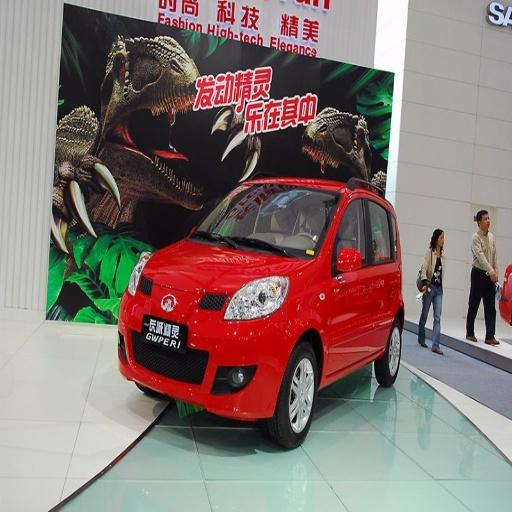back_left_door: (365, 192, 393, 349)
front_bumper: (132, 290, 293, 422)
front_glass: (191, 185, 338, 257)
front_left_door: (329, 191, 371, 371)
